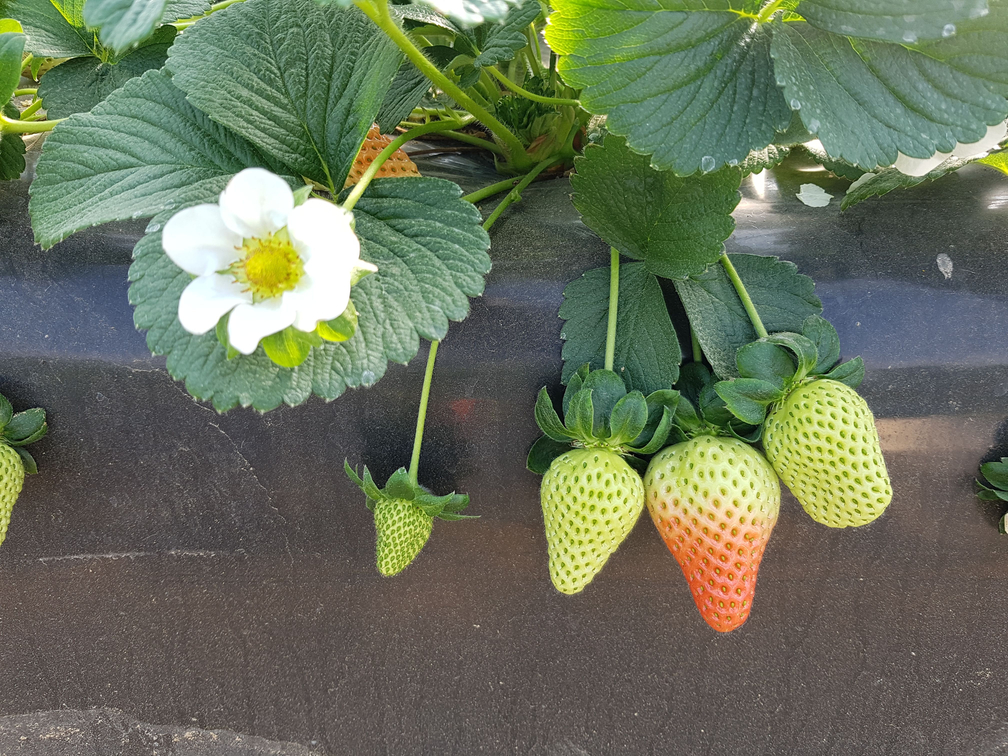peduncle: (343, 119, 464, 210), (408, 340, 439, 482), (721, 254, 767, 337), (604, 248, 619, 370)
strawberry: (644, 435, 780, 631), (764, 378, 891, 526), (541, 449, 643, 593), (375, 497, 432, 575)
